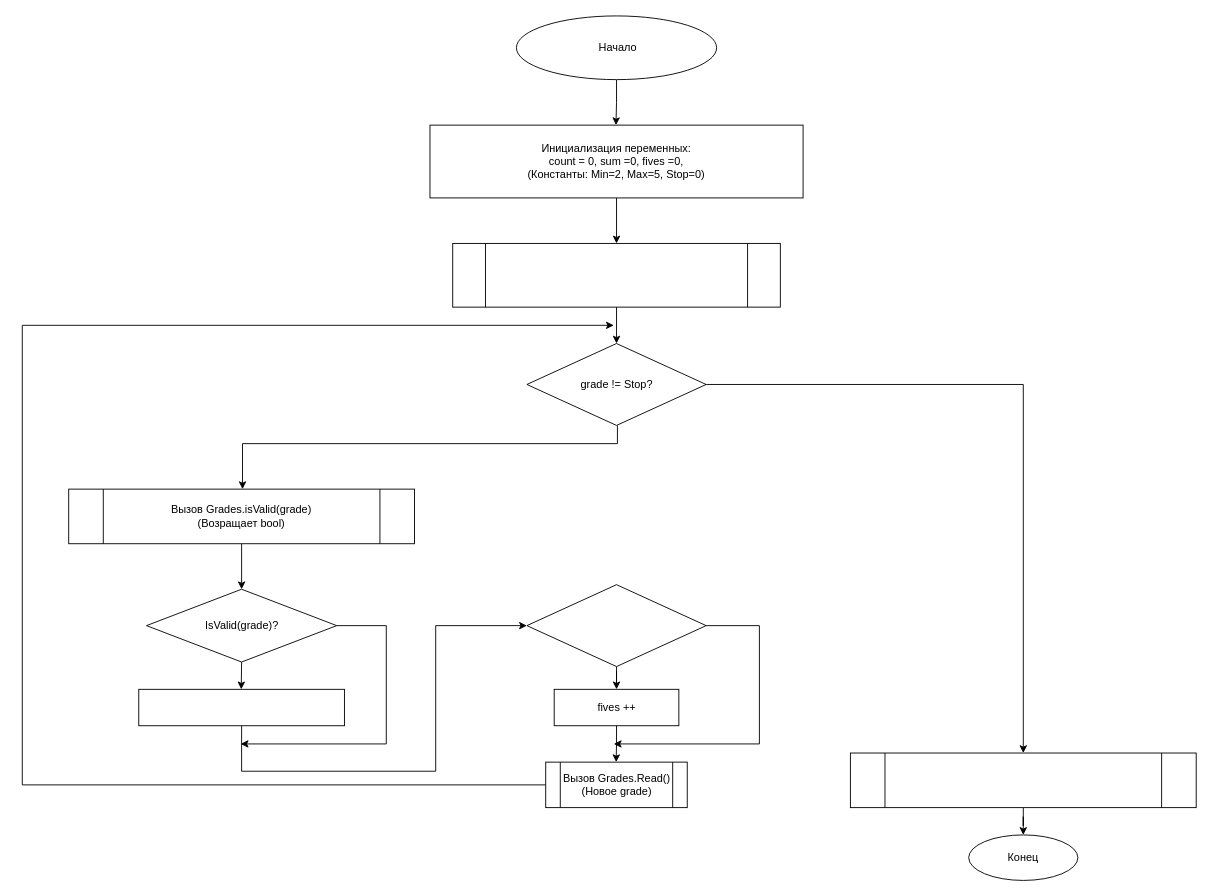
This 1212x896 diagram has some shape labels left out. Here are the shapes that lost their labels. From the top down, the centre of each, then its label:
(616,275): Вызов Grades,Read() (Возращает int)
(616,625): grade == Max?
(241,707): count++;sum += grade
(1022,780): Вызов Grades.PrintStats(count, sum, fives) (Вывод итога)
